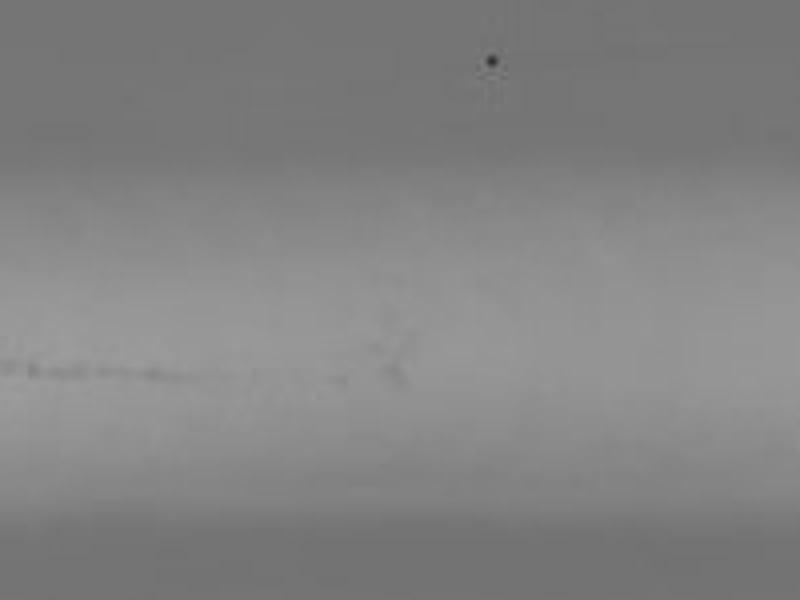defect: (382, 360, 413, 389), (19, 361, 42, 382), (146, 369, 167, 387), (484, 51, 503, 68)
